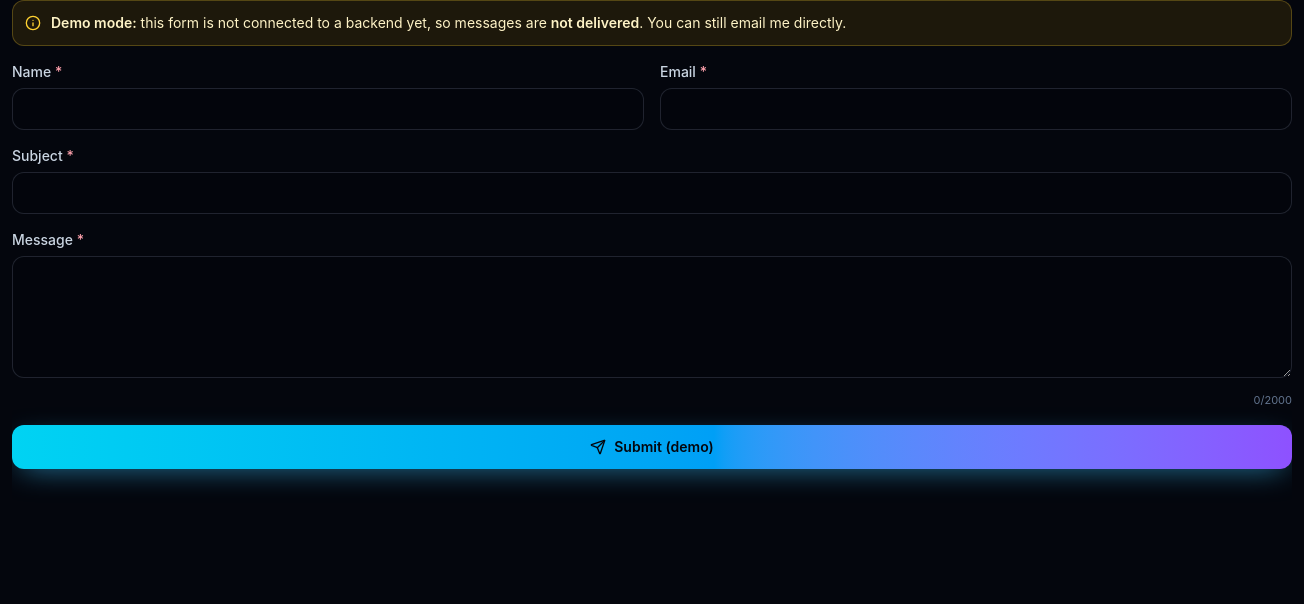
Test: ContactForm › in demo mode never claims the message was delivered
This screenshot has width=1304, height=604.
Expected: the text "Demo mode:" is shown, [51, 14, 137, 31]
Type "Ada Lovelace" into the field labelled "Name *" at (328, 109), box [12, 88, 644, 130]
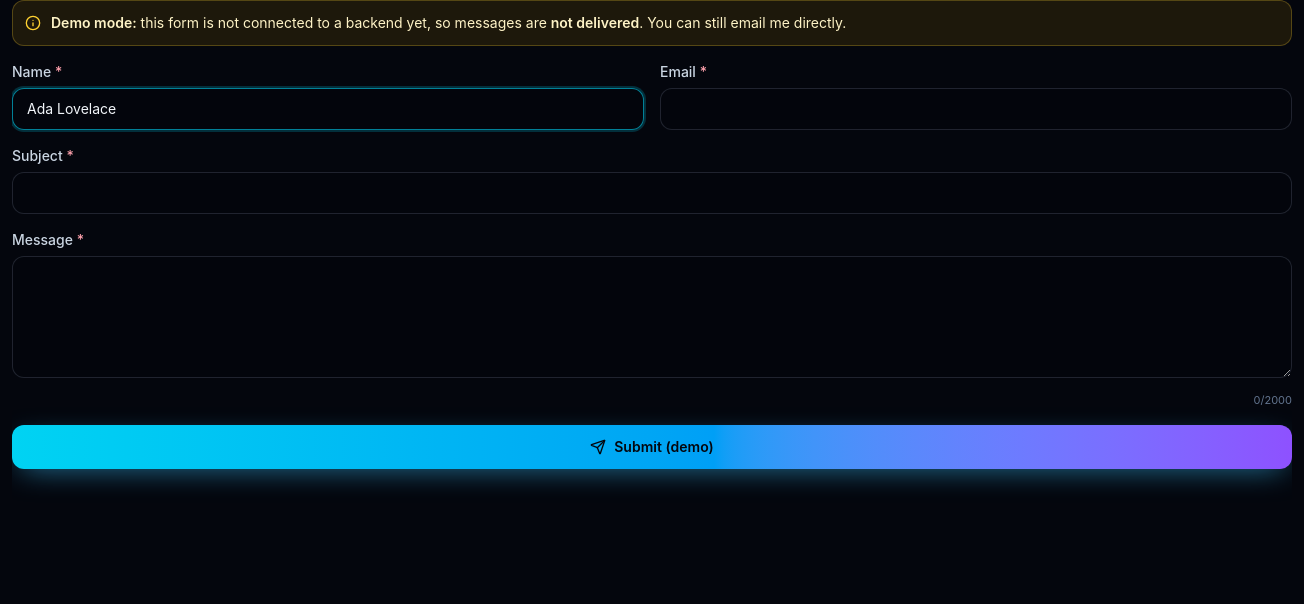
Type "ada@example.com" into the field labelled "Email *" at (976, 109), box [660, 88, 1292, 130]
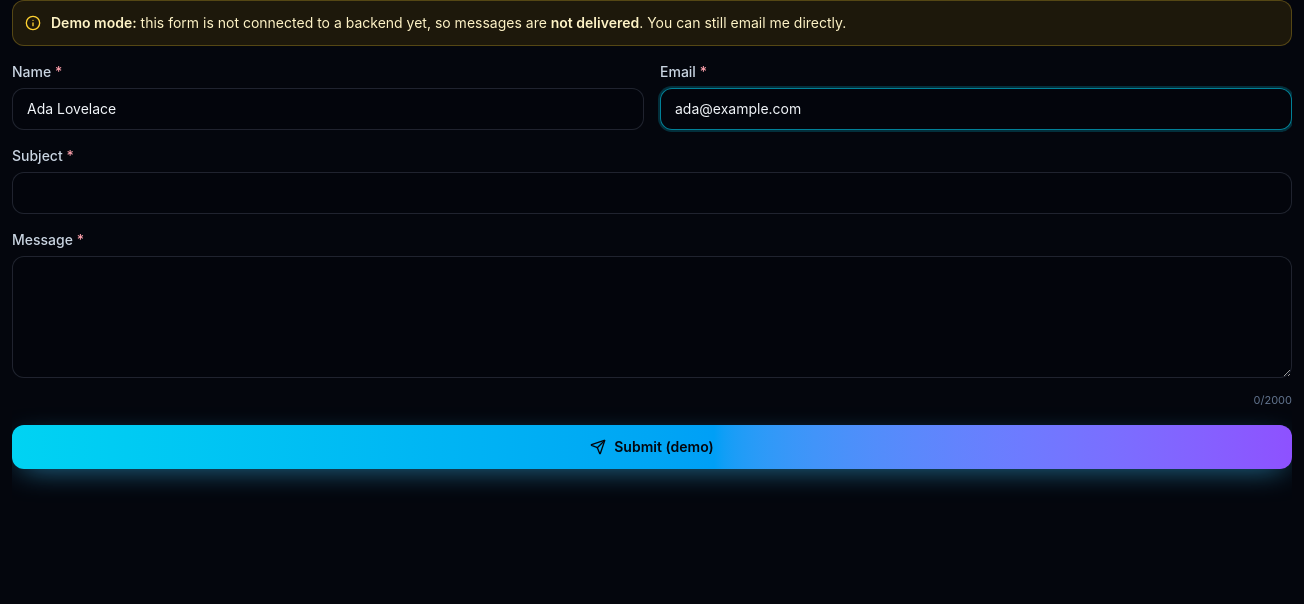
Type "Project enquiry" into the field labelled "Subject *" at (652, 193), box [12, 172, 1292, 214]
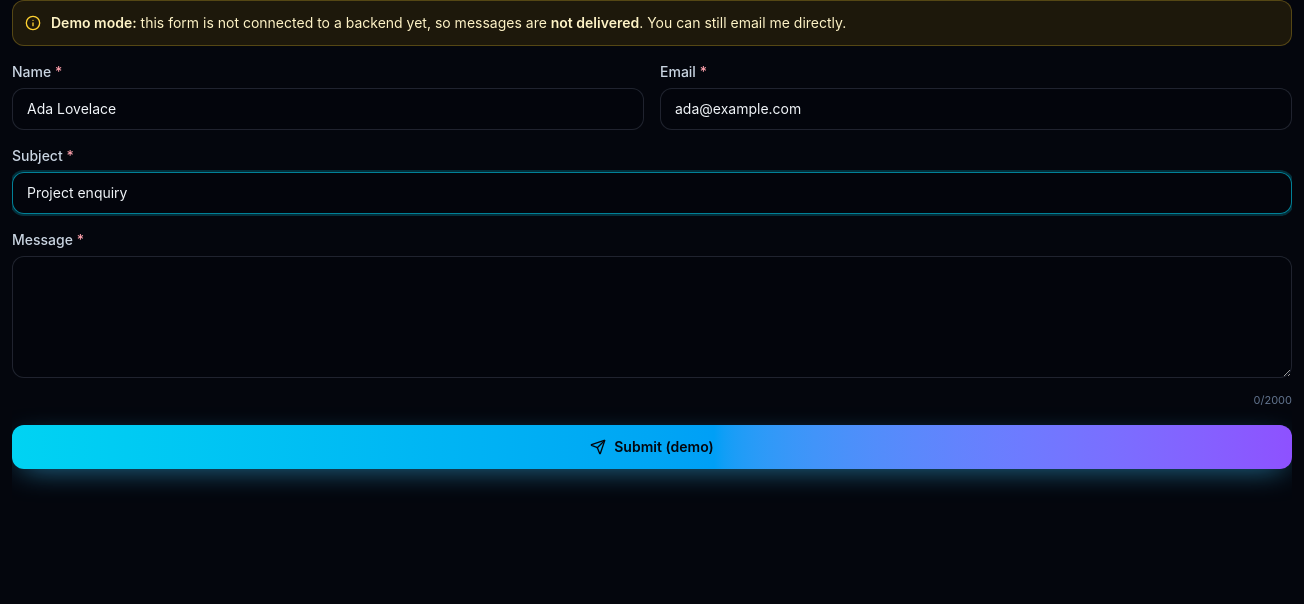
Type "Hello! I would like to discuss a project with you." into the text box labelled "Message *" at (652, 317), box [12, 256, 1292, 378]
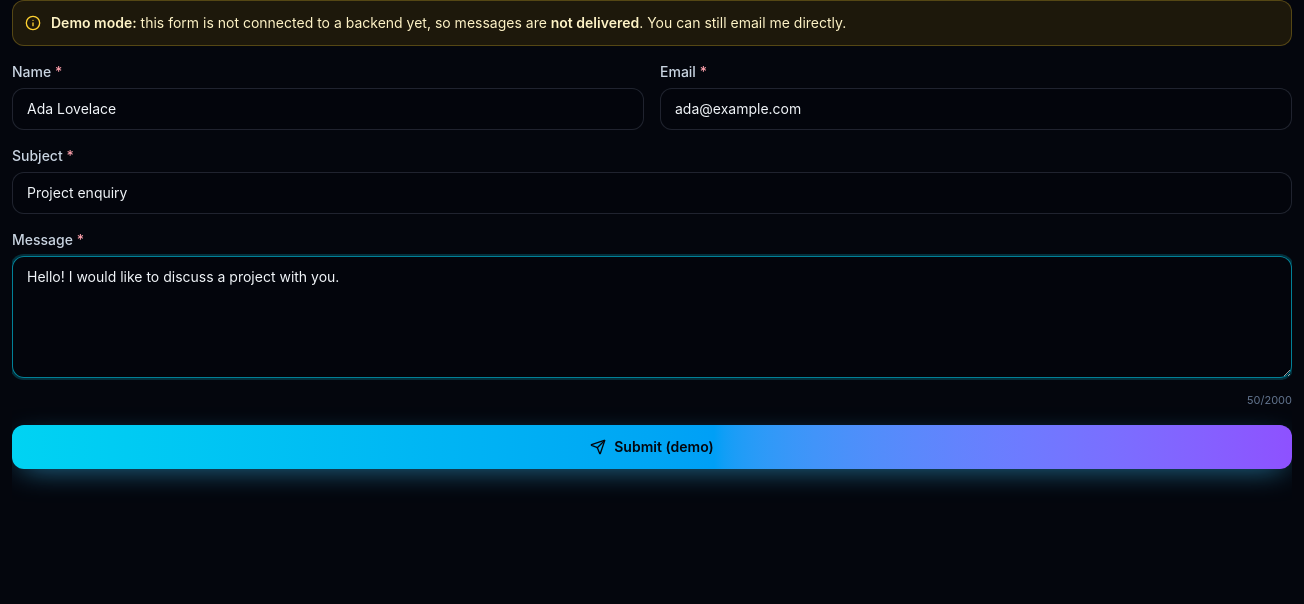
Click the button "Submit (demo)" at (652, 446), box [12, 424, 1292, 468]
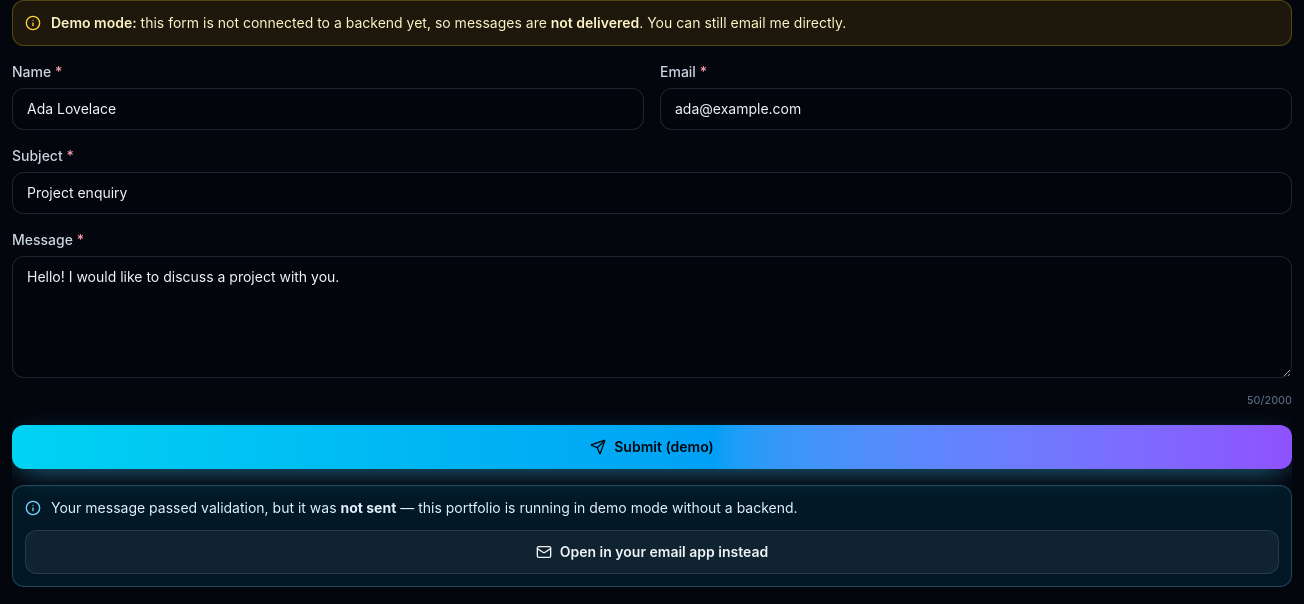
Now the text "not sent" is shown, box [340, 498, 396, 516]
